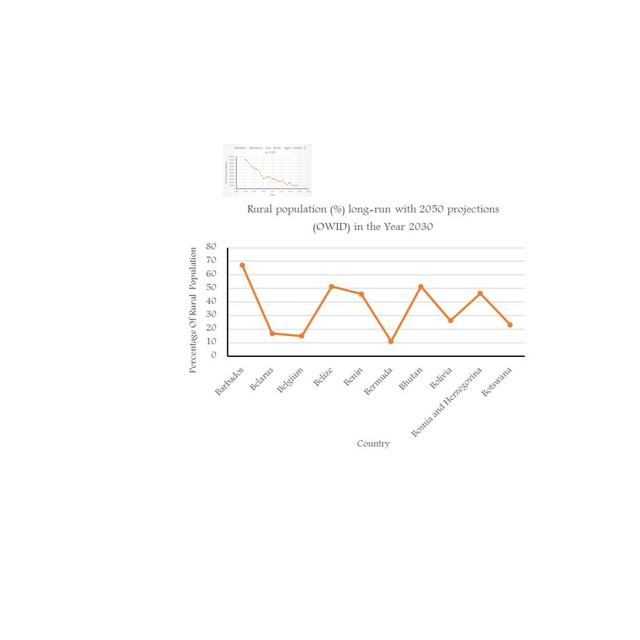Graph: (183, 197, 530, 451), (223, 144, 312, 197)
